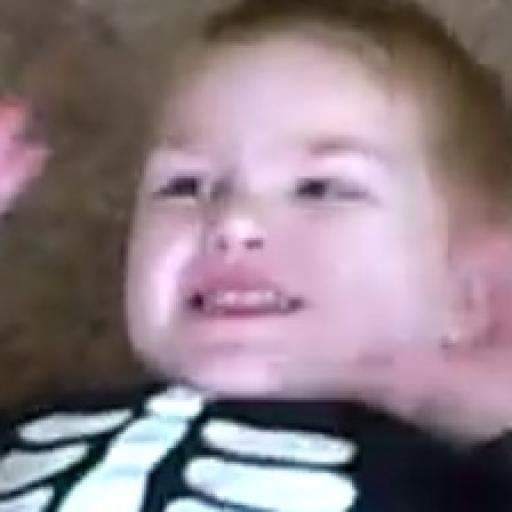Autism: (120, 30, 512, 507)
